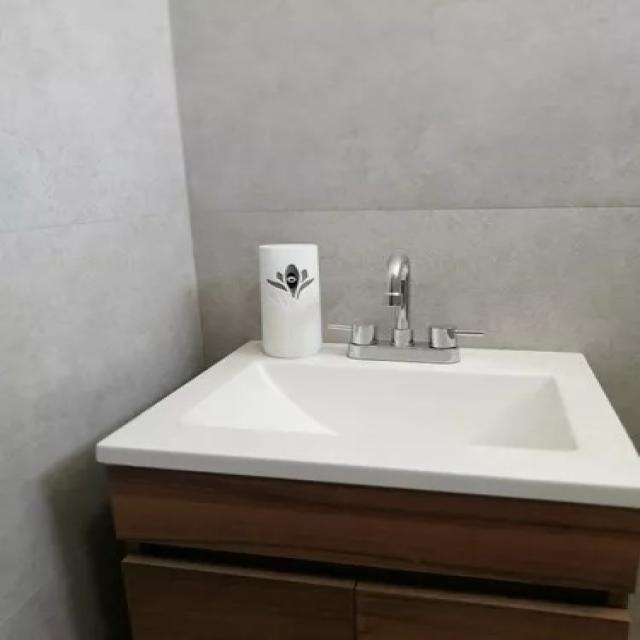hidden camera: (288, 277, 296, 283)
